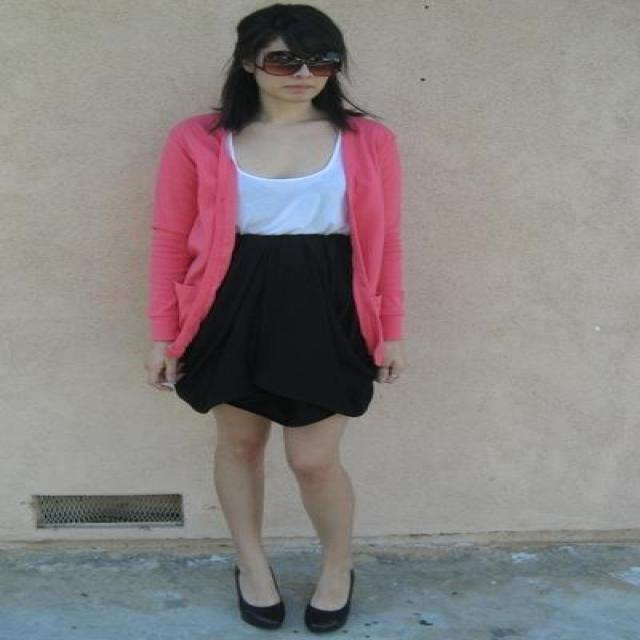jacket: (148, 108, 402, 357)
shirt: (237, 144, 344, 234)
shoe: (238, 602, 349, 634)
skirt: (174, 232, 381, 426)
sunglass: (250, 39, 346, 84)
